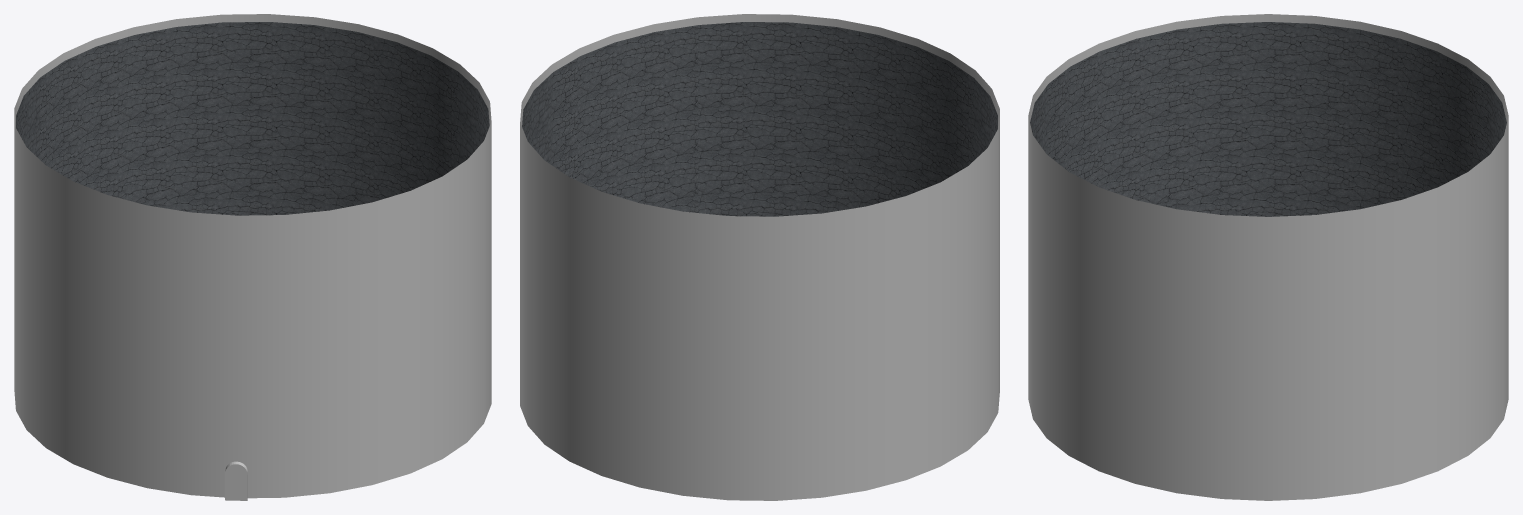
Rendered from LLTK Tower.fbx.
3 renders of one model, left to right at view 1: azimuth 30°, elevation 25°; view 2: azimuth 150°, elevation 25°; view 3: azimuth 270°, elevation 25°, orthographic.
Parts seen in each view (by area): view 1: Outer Wall, Inner Wall, Door Inside.001; view 2: Outer Wall, Inner Wall; view 3: Outer Wall, Inner Wall.
Boxes of the visible parts, x1,y1,x2,y2 form: Outer Wall: (14, 14, 491, 498); Inner Wall: (16, 22, 489, 215); Door Inside.001: (225, 461, 247, 500); Outer Wall: (520, 14, 999, 500); Inner Wall: (522, 22, 997, 216); Outer Wall: (1028, 14, 1508, 500); Inner Wall: (1030, 22, 1506, 216).
Size of the model in its own units: 12066 by 12066 by 7873.
